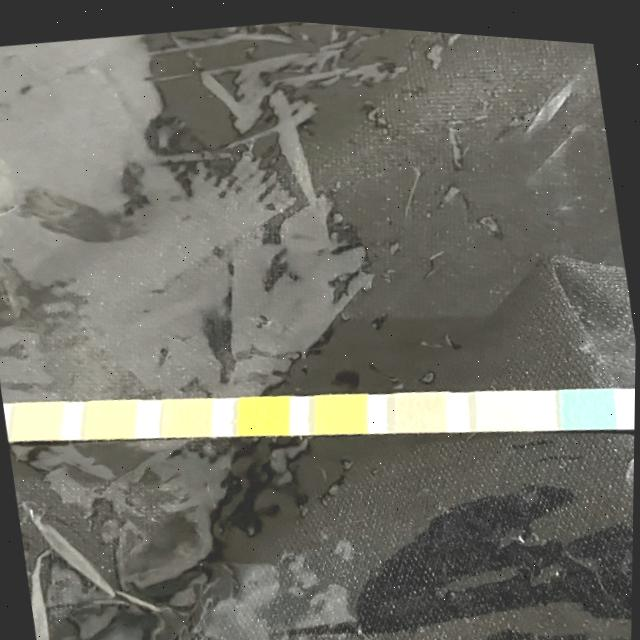Bilirubin: (477, 380, 534, 427)
Blood: (240, 390, 291, 436)
Glucose: (560, 377, 618, 424)
Ketone: (395, 381, 451, 430)
Protein: (90, 396, 139, 440)
SpGravity: (316, 386, 368, 432)
Urobilinogen: (16, 399, 65, 442)
pH: (165, 392, 214, 437)
